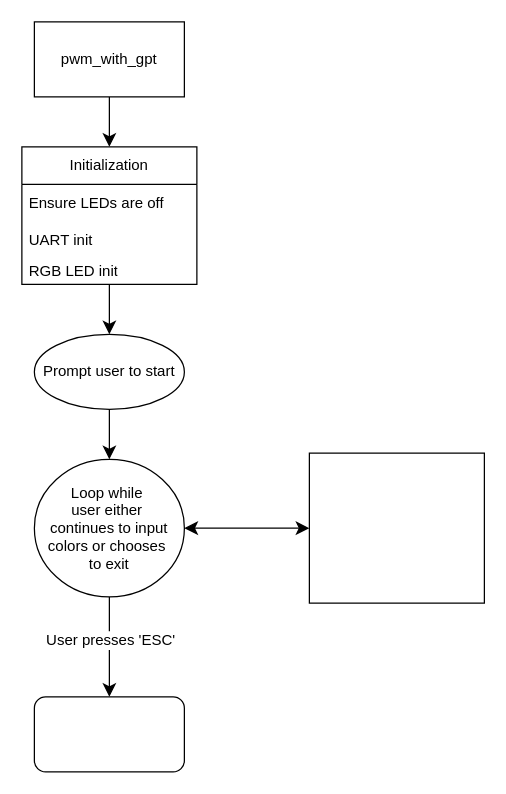
This 506x794 diagram has some shape labels left out. Here are the shapes that lost their labels. From the top down, the centre of each, then its label:
(x=396, y=527): Advanced_RGB_LED interrupts and illuminates based off of most recent input value
(x=108, y=734): Exit pwm_with_gpt
